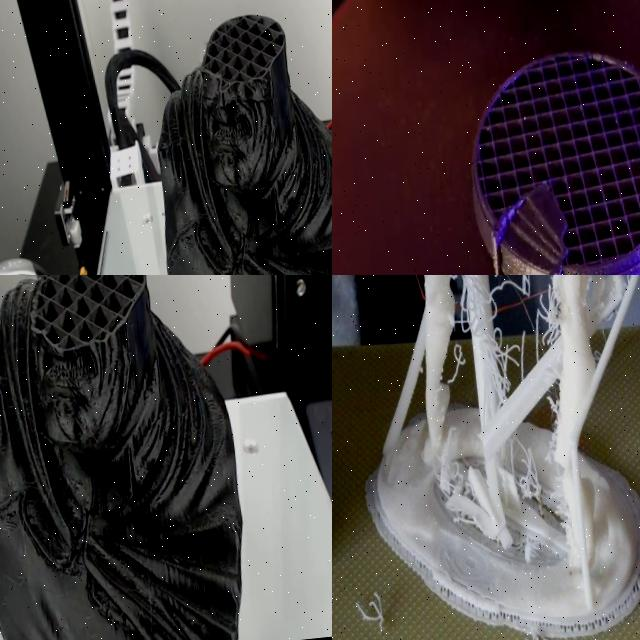spaghetti: (416, 275, 634, 597), (429, 426, 548, 550), (468, 275, 570, 394), (540, 387, 580, 576), (569, 275, 640, 370), (347, 576, 397, 640), (437, 275, 481, 347), (514, 618, 550, 640)
